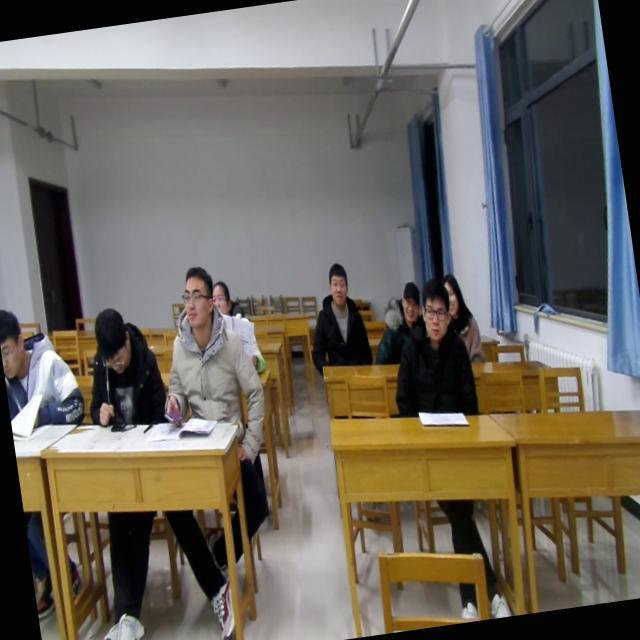bow: (0, 296, 89, 437)
down: (89, 300, 138, 380), (0, 304, 32, 381)
lookup: (176, 261, 222, 336), (416, 275, 456, 346), (321, 256, 354, 308), (391, 278, 425, 324), (442, 264, 467, 318), (207, 276, 235, 320)
sit: (144, 258, 268, 434), (380, 273, 484, 424), (74, 302, 170, 436), (300, 258, 374, 374), (207, 274, 269, 380), (433, 265, 489, 368), (366, 279, 432, 366)
